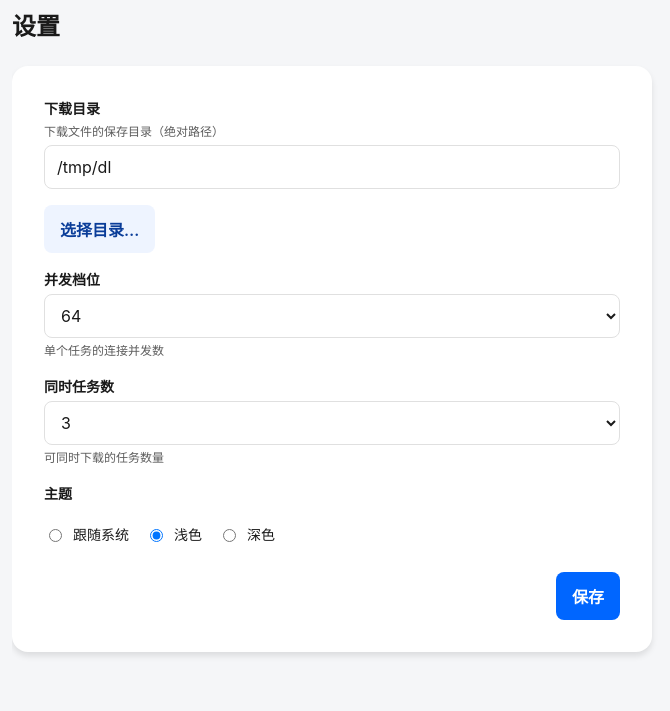
Test: 设置页：全量保存语义（场景 2，Review Focus #2） › 空 destDir 保存 → 400 invalid_settings：role=alert 回显后端 message，无成功 Toast
Clear the field labelled "下载目录" at coordinates (332, 167), box x1=44 y1=145 x2=620 y2=189
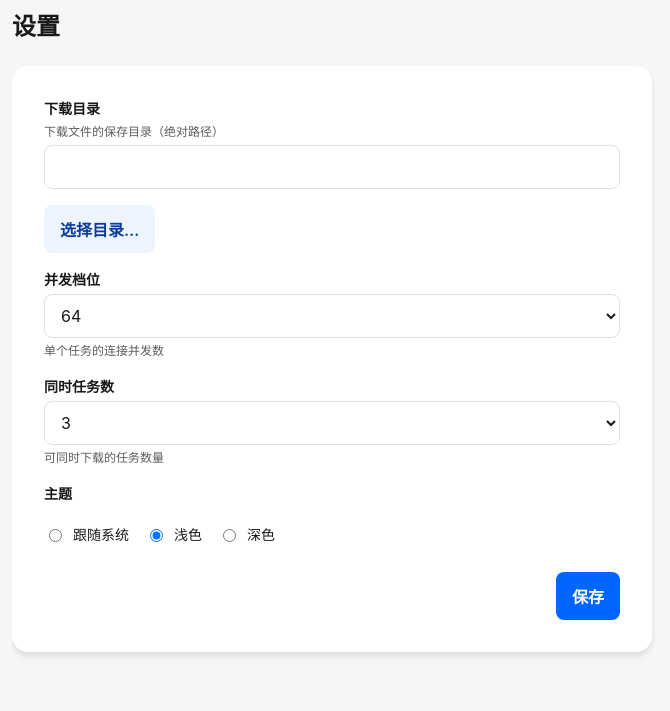
Click the button "保存".
click(588, 596)  # box x1=556 y1=572 x2=620 y2=620
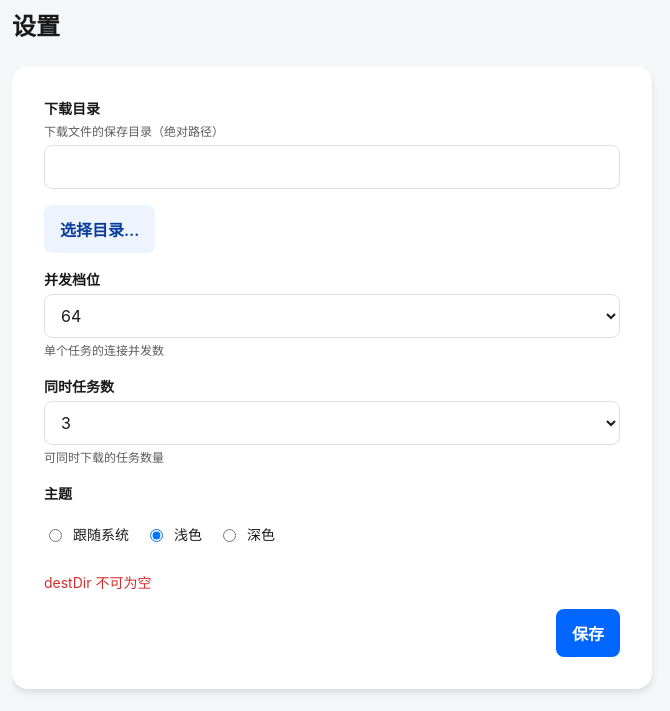
Expected: the message reads "destDir 不可为空", x1=44 y1=574 x2=151 y2=591
